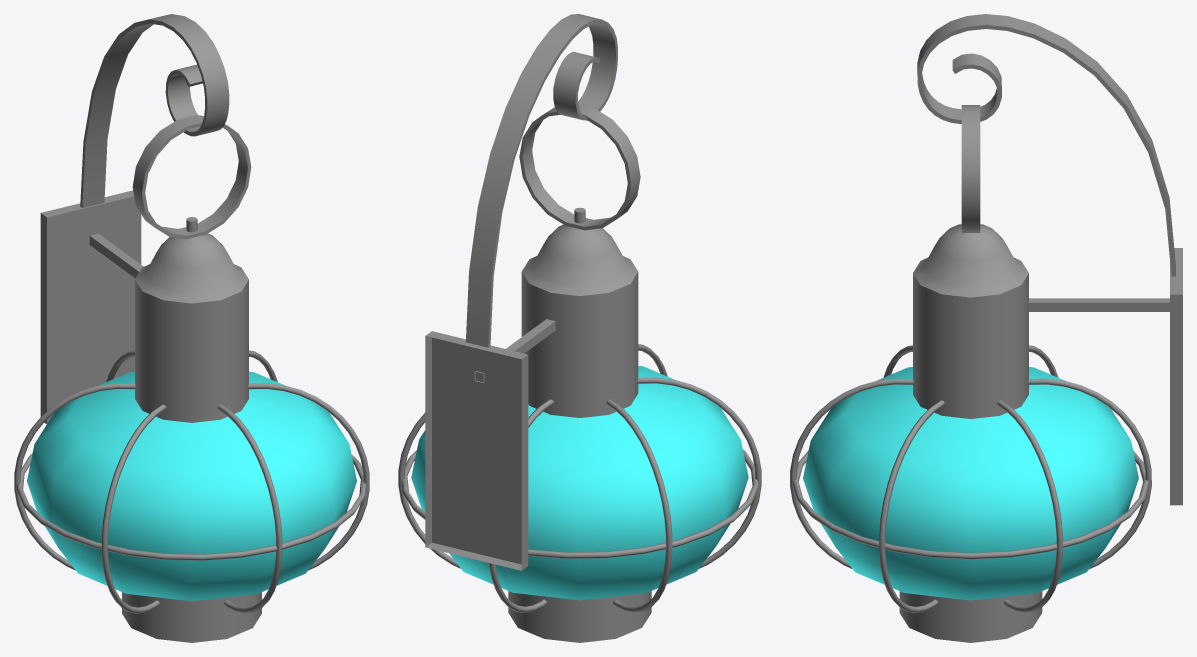
File: Lamp_01.FBX
3 renders of one model, left to right at view 1: azimuth 30°, elevation 25°; view 2: azimuth 150°, elevation 25°; view 3: azimuth 270°, elevation 25°, orthographic. The views are drawn at different scales.
Parts seen in each view (by area): view 1: Lamp_01_LOD0; view 2: Lamp_01_LOD0; view 3: Lamp_01_LOD0.
Part boxes in pixels (box(x1,y1,x2,y2)): Lamp_01_LOD0: box(14, 14, 369, 642); Lamp_01_LOD0: box(398, 14, 761, 642); Lamp_01_LOD0: box(790, 14, 1182, 642).
Size of what is drawn, in the model's own units: 27.62 by 50.56 by 30.34.
